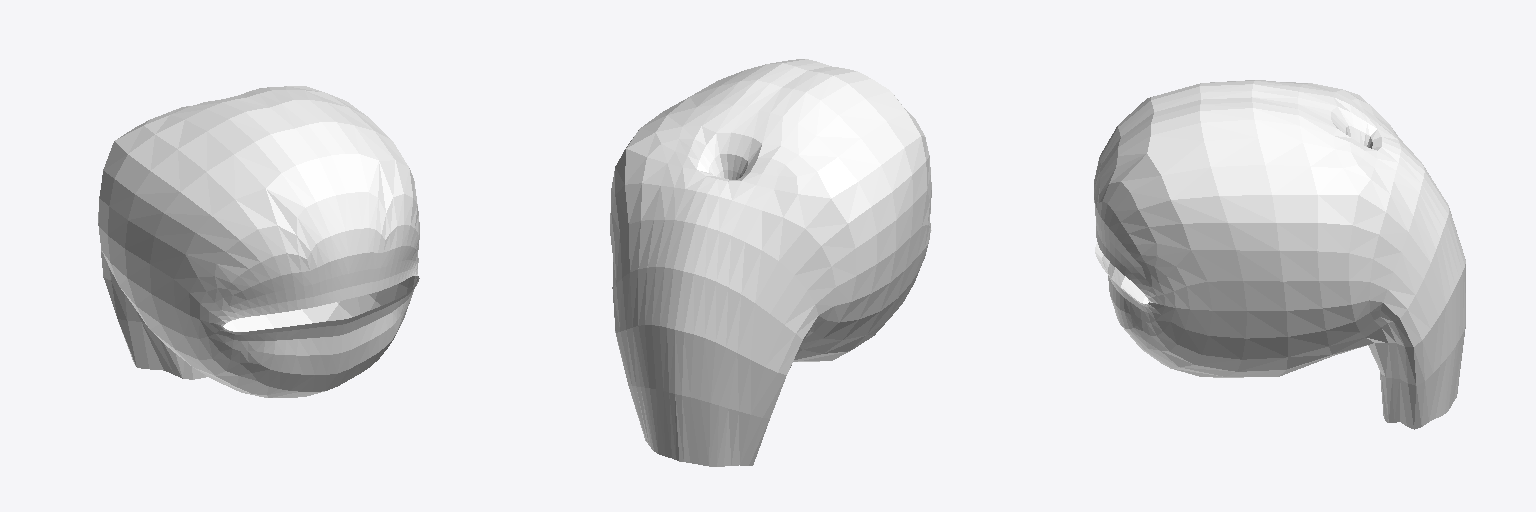
Rendered from cavityP_0.obj.
3 renders of one model, left to right at view 1: azimuth 30°, elevation 25°; view 2: azimuth 150°, elevation 25°; view 3: azimuth 270°, elevation 25°, orthographic.
Parts seen in each view (by area): view 1: cavity; view 2: cavity; view 3: cavity.
Boxes of the visible parts, box(x1,y1,x2,y2) form: cavity: box(98, 86, 419, 397); cavity: box(610, 59, 931, 466); cavity: box(1094, 80, 1465, 429).
Size of the model in its own units: 0.0432 by 0.0511 by 0.0538.